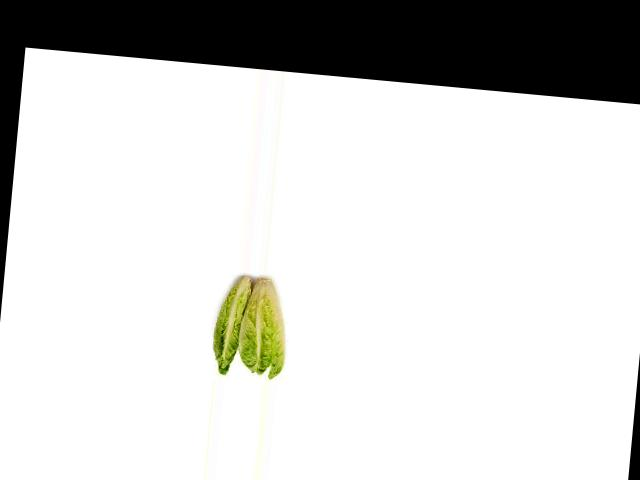lettuce: (200, 266, 255, 378)
